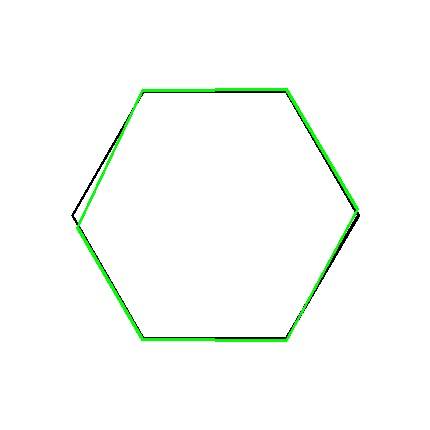line_segment: (71, 89, 360, 341)
